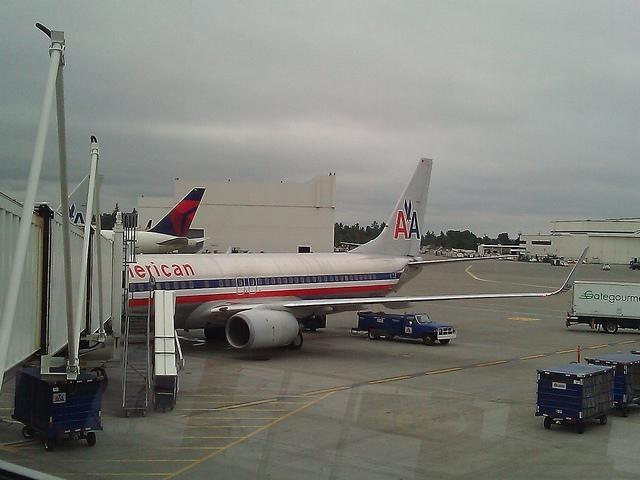truck: (536, 361, 617, 434), (564, 281, 640, 332), (583, 356, 640, 416), (360, 314, 460, 344)
